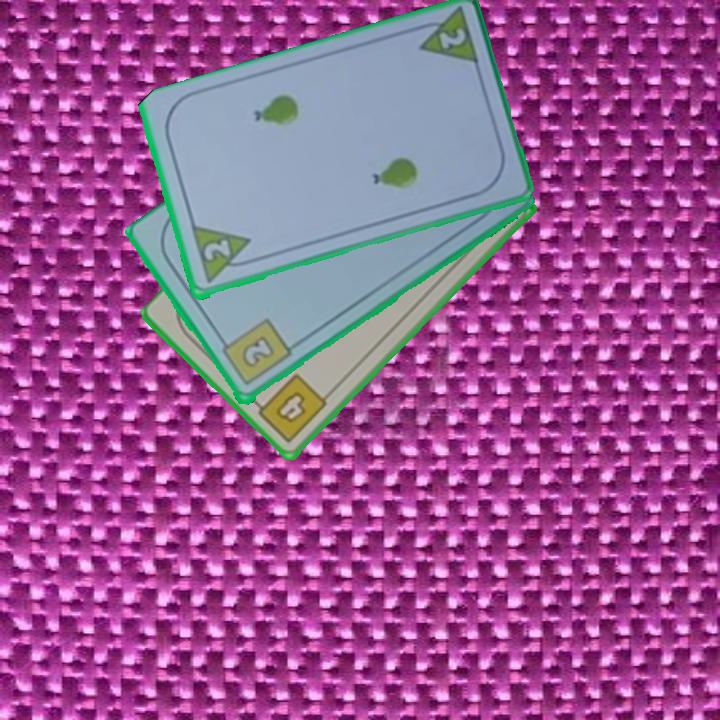2b: (215, 315, 294, 390)
2p: (187, 223, 258, 288), (434, 25, 469, 53)
4b: (249, 370, 330, 446)
